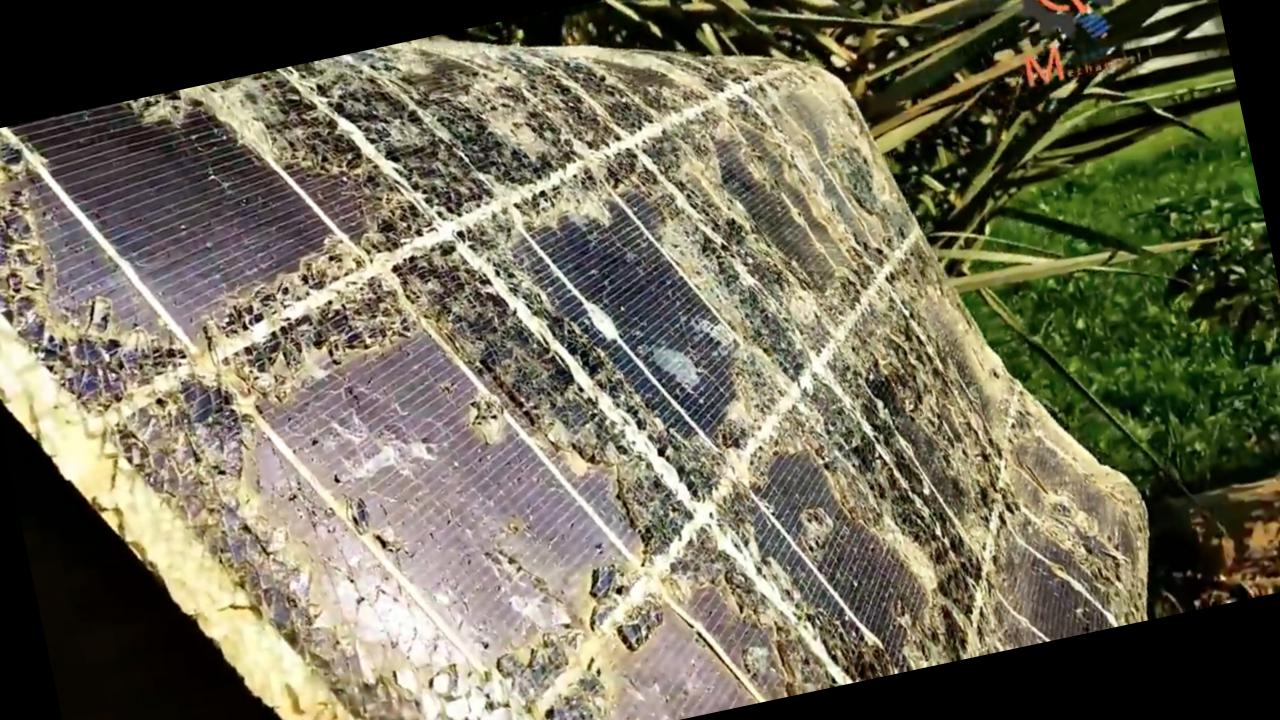Crack: (190, 226, 436, 416), (556, 399, 698, 564), (446, 68, 590, 198), (868, 480, 986, 612), (1009, 483, 1118, 604), (884, 338, 986, 466), (52, 309, 180, 402), (652, 130, 748, 247), (134, 415, 225, 502), (775, 267, 849, 361)
